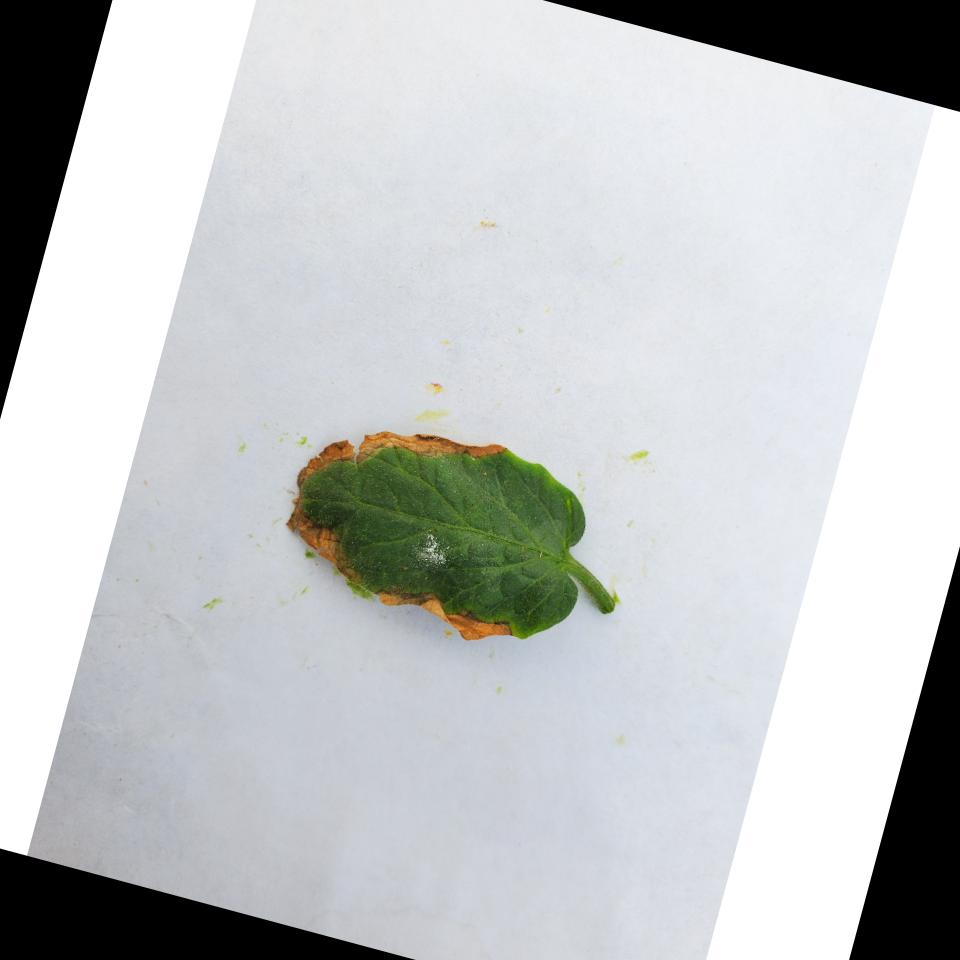tomato_bacterial_blight: (240, 387, 654, 681)
